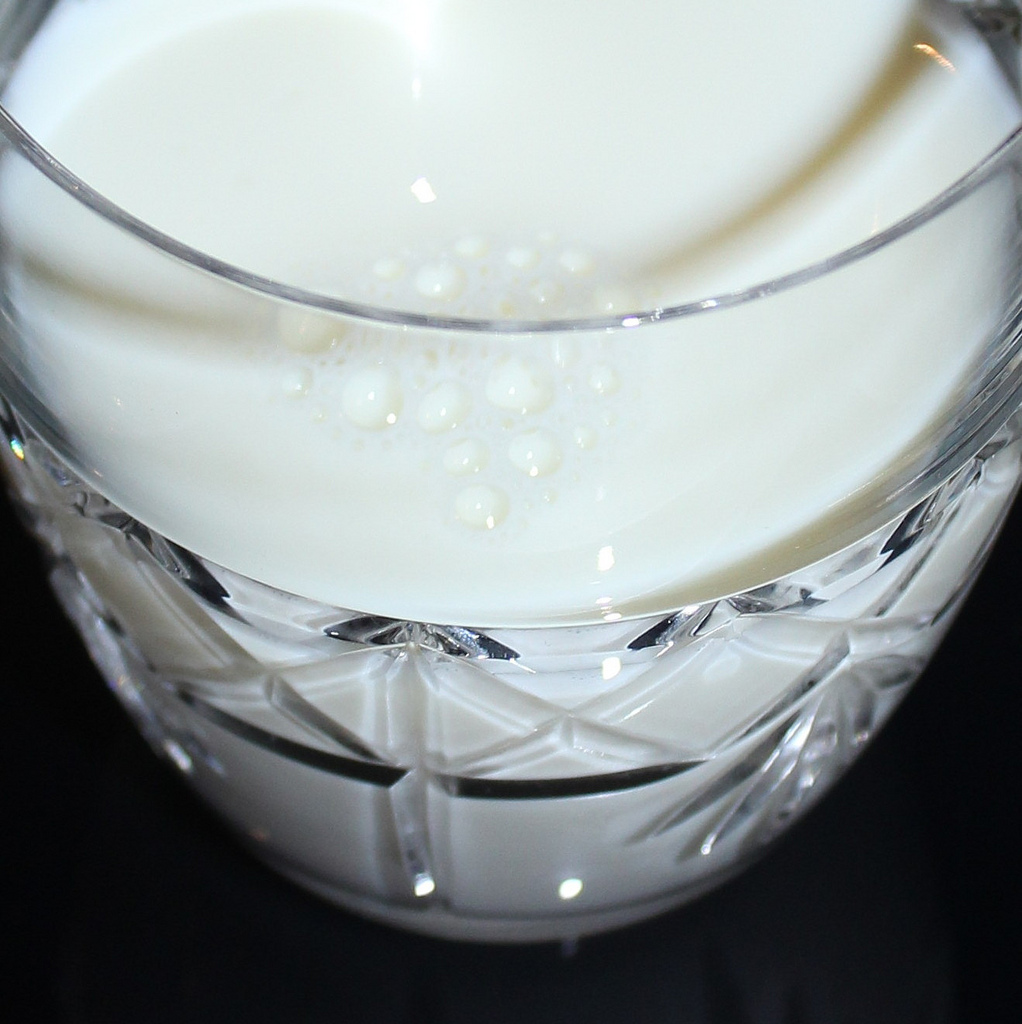glass of milk: (16, 29, 1022, 987)
